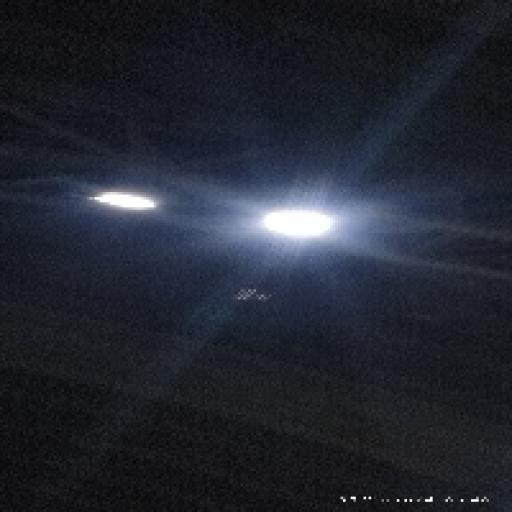Working: (248, 194, 340, 249), (80, 179, 164, 226)
